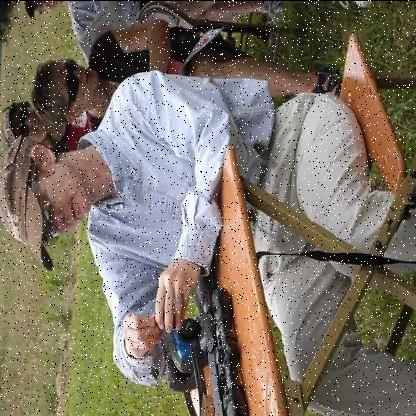rifle: (161, 225, 256, 416)
